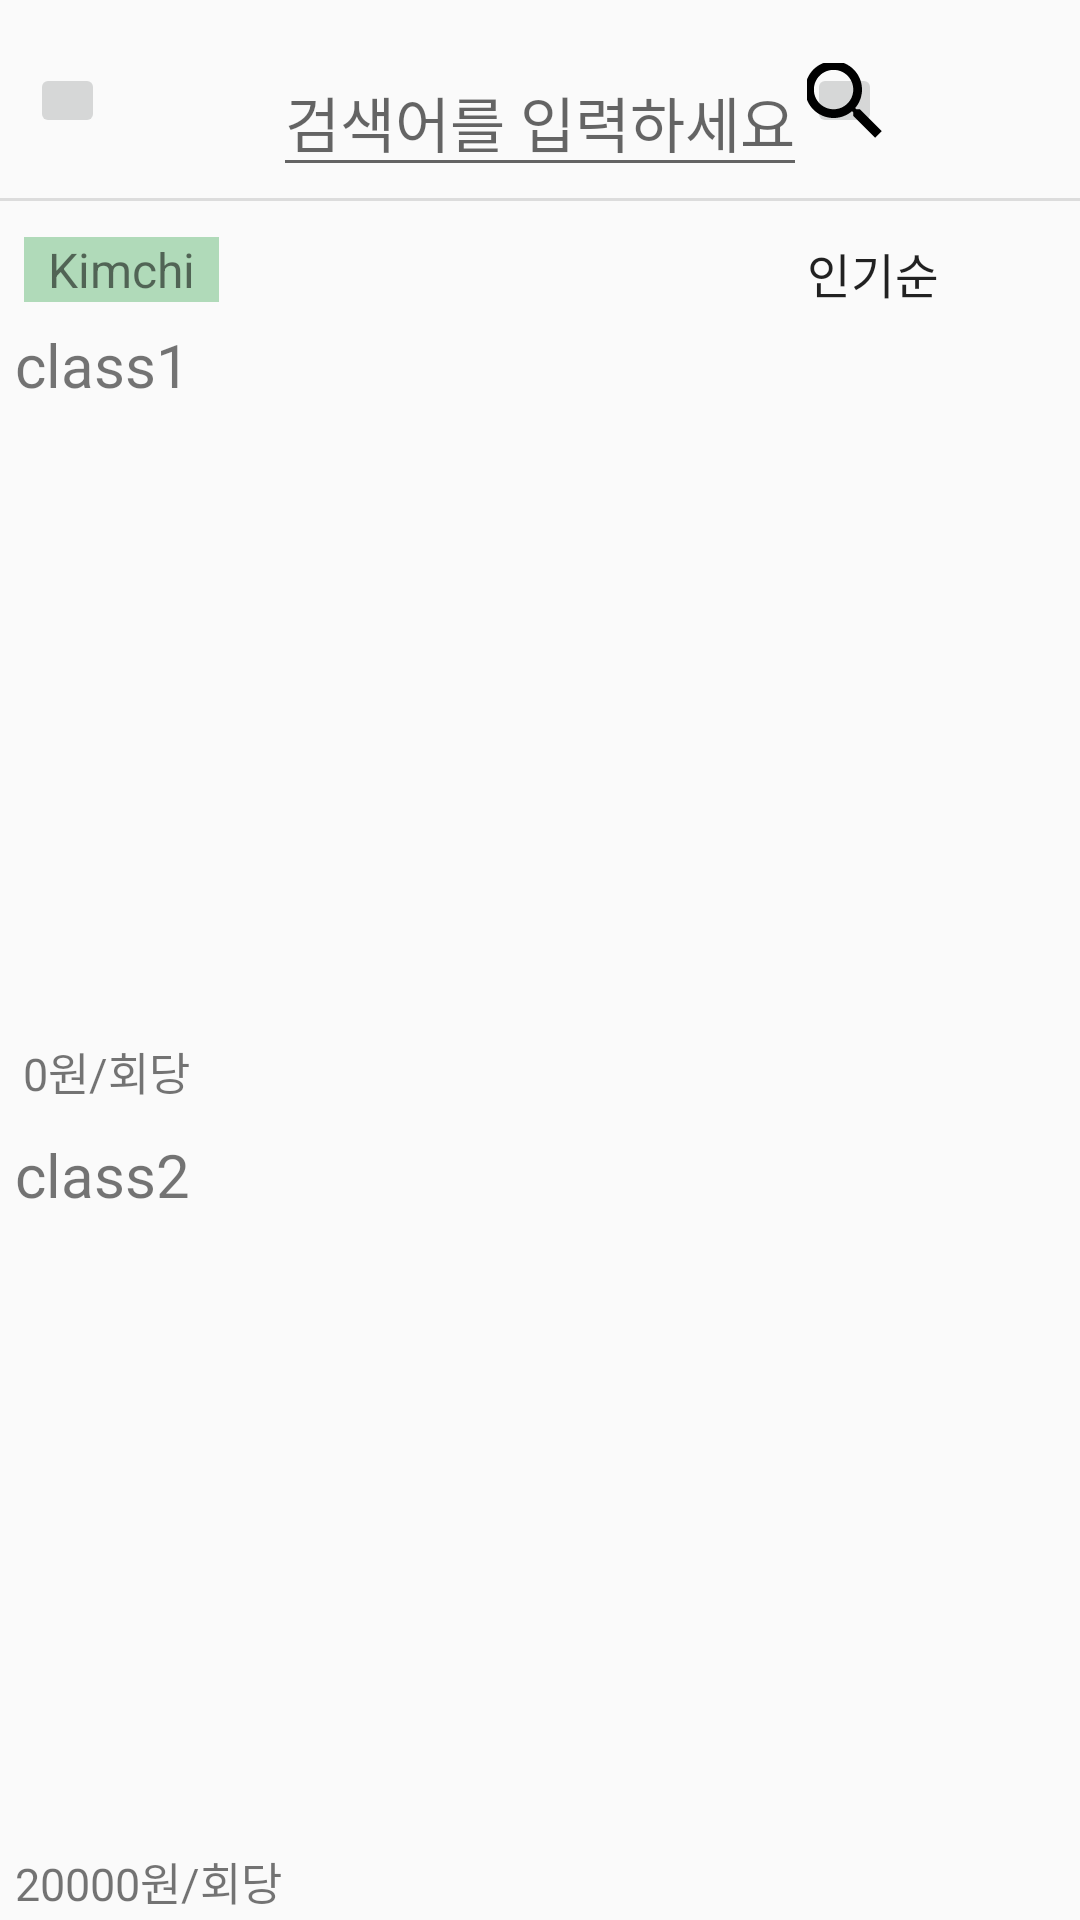

Screen size 1080px×1920px. Icon name, then its center in pixels as point (x, y):
search: point (844, 100)
